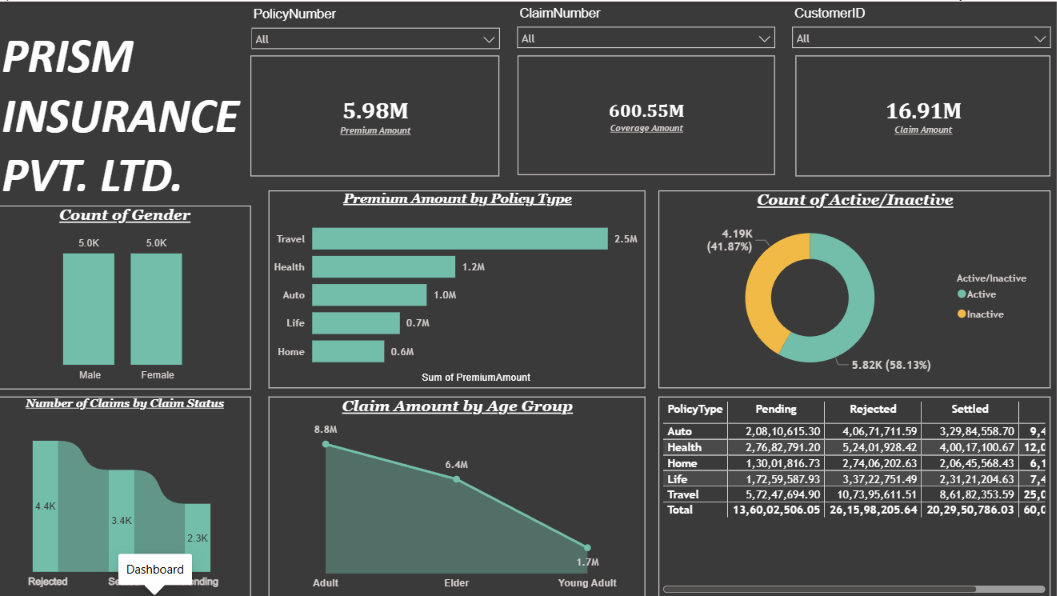

The dashboard page shown, as its layout file describes it:
{"tool":"powerbi","page":{"name":"Page 1","canvas":[1280,720],"ordinal":0},"visuals":[{"type":"slicer","fields":{"Values":["InsuranceData.PolicyNumber"]},"box":[295.7,1.4,320,84.3],"z":0},{"type":"slicer","fields":{"Values":["InsuranceData.ClaimNumber"]},"box":[616.2,0,331.2,86.2],"z":1000},{"type":"slicer","fields":{"Values":["InsuranceData.CustomerID"]},"box":[948,0,332,86],"z":2000},{"type":"textbox","box":[0,24,306,288],"z":3000},{"type":"cardVisual","fields":{"Data":["Sum(InsuranceData.PremiumAmount)"]},"box":[305.7,65.7,300,145.7],"z":4000},{"type":"cardVisual","fields":{"Data":["Sum(InsuranceData.ClaimAmount)"]},"box":[962.9,65.7,307.1,145.7],"z":5000},{"type":"cardVisual","fields":{"Data":["Sum(InsuranceData.CoverageAmount)"]},"box":[627.1,65.7,310,144],"z":6000},{"type":"clusteredColumnChart","title":"Count of Gender ","fields":{"Category":["InsuranceData.Gender"],"Y":["CountNonNull(InsuranceData.Gender)"]},"box":[0,245.7,305.7,221.4],"z":7000},{"type":"ribbonChart","title":"Number of Claims by Claim Status","fields":{"Category":["InsuranceData.ClaimStatus"],"Y":["CountNonNull(InsuranceData.ClaimStatus)"]},"box":[0,477.1,305.7,242.9],"z":8000},{"type":"barChart","title":"Premium Amount by Policy Type","fields":{"Category":["InsuranceData.PolicyType"],"Y":["Sum(InsuranceData.PremiumAmount)"]},"box":[327.1,228.6,454.3,238.6],"z":9000},{"type":"lineChart","title":" Claim Amount by Age Group","fields":{"Category":["InsuranceData.Age Group"],"Y":["Sum(InsuranceData.ClaimAmount)"]},"box":[327.1,477.1,454.3,242.9],"z":10000},{"type":"donutChart","title":"Count of Active/Inactive ","fields":{"Category":["InsuranceData.Active/Inactive"],"Y":["CountNonNull(InsuranceData.Active/Inactive)"]},"box":[797.1,228.6,472.9,238.6],"z":11000},{"type":"pivotTable","fields":{"Values":["Sum(InsuranceData.CoverageAmount)"],"Rows":["InsuranceData.PolicyType"],"Columns":["InsuranceData.ClaimStatus"]},"box":[797.1,477.1,472.9,242.9],"z":12000}]}

Visuals, with their boxes in screenshot pixels (x1, y1, x2, y2), scaled from the page's 1280x720 canvas onto the 1057x596 screenshot:
slicer - InsuranceData.PolicyNumber: [244, 1, 508, 71]
slicer - InsuranceData.ClaimNumber: [509, 0, 782, 71]
slicer - InsuranceData.CustomerID: [783, 0, 1056, 71]
textbox: [0, 20, 253, 258]
cardVisual - Sum(InsuranceData.PremiumAmount): [252, 54, 500, 175]
cardVisual - Sum(InsuranceData.ClaimAmount): [795, 54, 1049, 175]
cardVisual - Sum(InsuranceData.CoverageAmount): [518, 54, 774, 174]
"Count of Gender " clusteredColumnChart: [0, 203, 252, 387]
"Number of Claims by Claim Status" ribbonChart: [0, 395, 252, 595]
"Premium Amount by Policy Type" barChart: [270, 189, 645, 387]
" Claim Amount by Age Group" lineChart: [270, 395, 645, 595]
"Count of Active/Inactive " donutChart: [658, 189, 1049, 387]
pivotTable - Sum(InsuranceData.CoverageAmount) x InsuranceData.PolicyType: [658, 395, 1049, 595]
